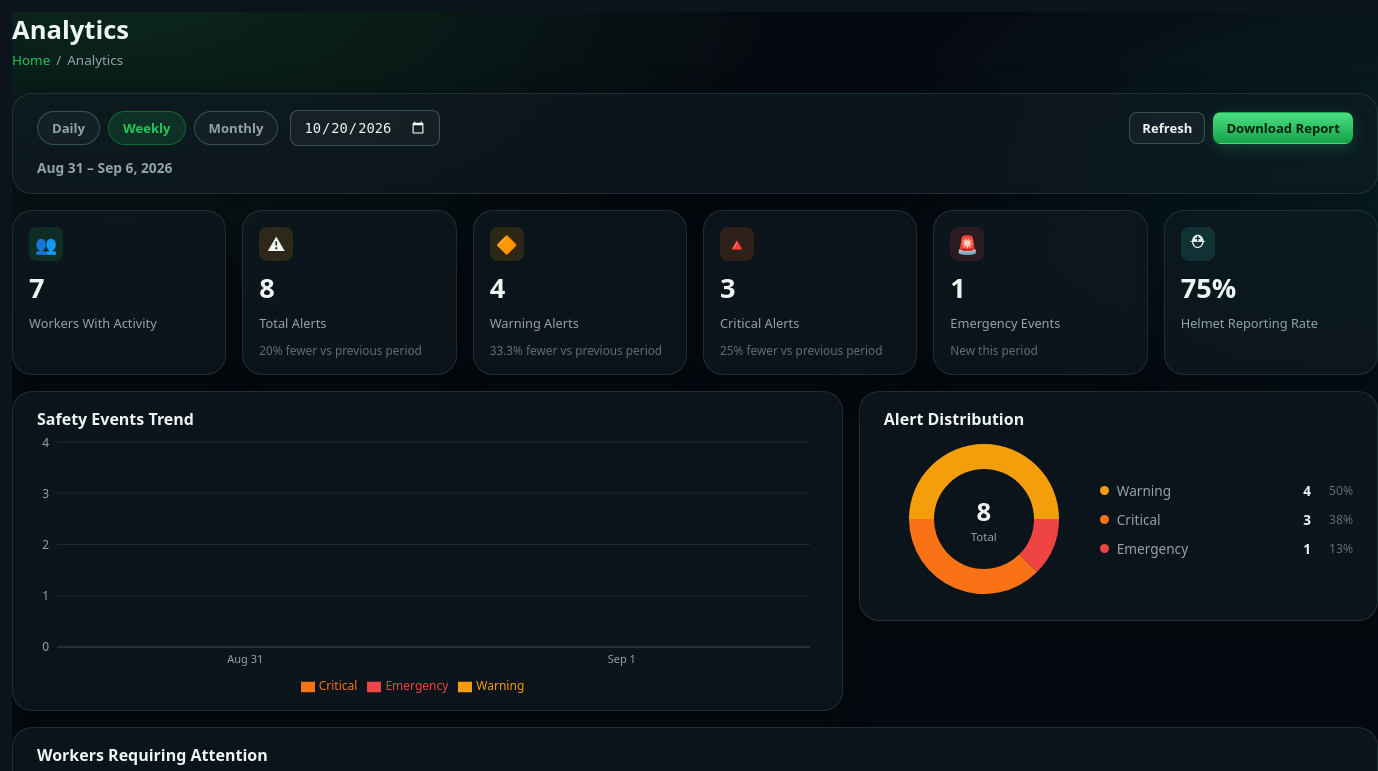
AnalyticsPage › Refresh requests fresh:true and updates the page with the new result
Expected: the text "Workers With Activity" is shown, [29, 314, 157, 332]
Click the button "Refresh". click: (1167, 128)
box: [1129, 112, 1205, 144]
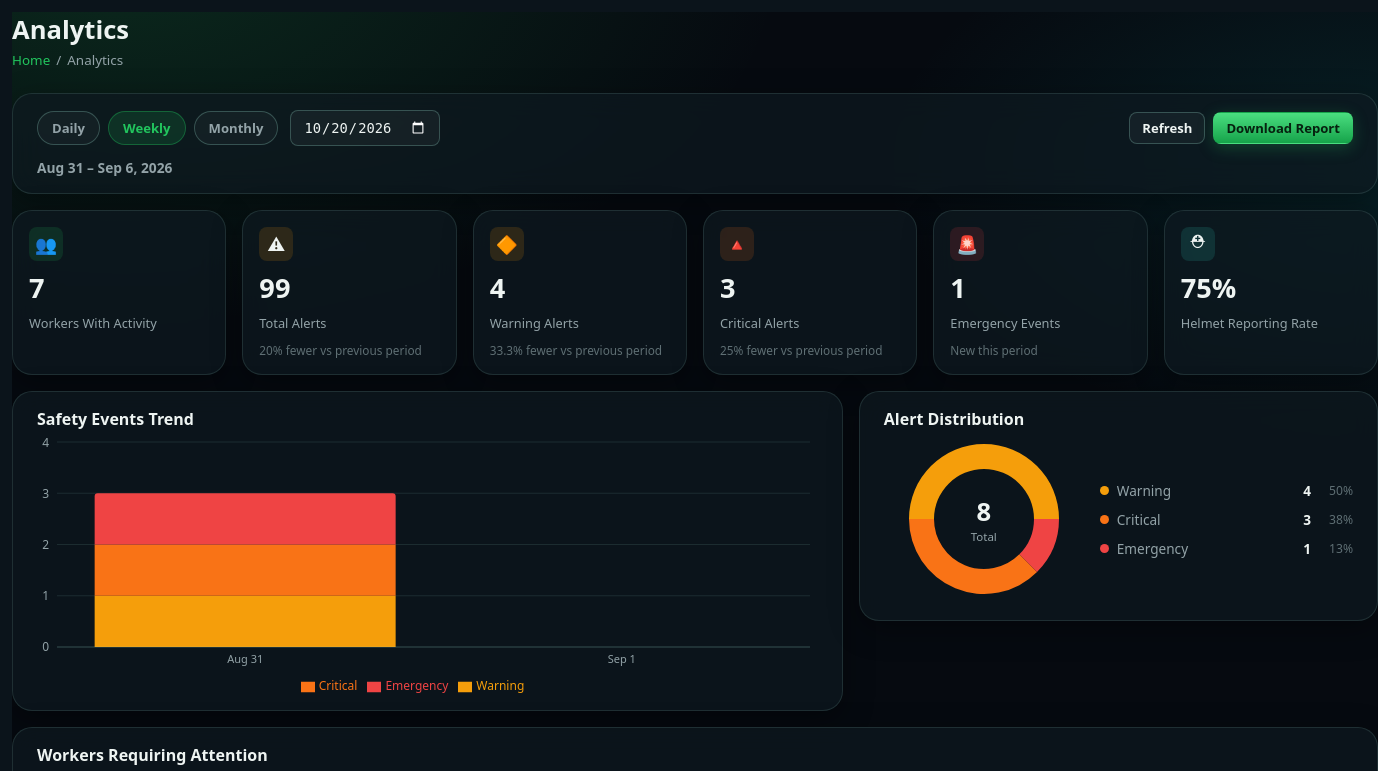
Now the text "99" is shown, box [259, 269, 290, 306]
